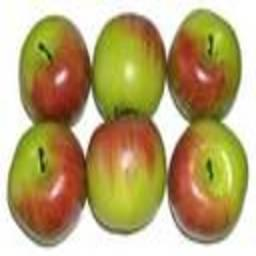apple: (168, 119, 249, 243), (7, 122, 86, 247), (86, 120, 170, 234), (91, 13, 169, 131), (168, 8, 240, 117), (19, 17, 92, 121)
